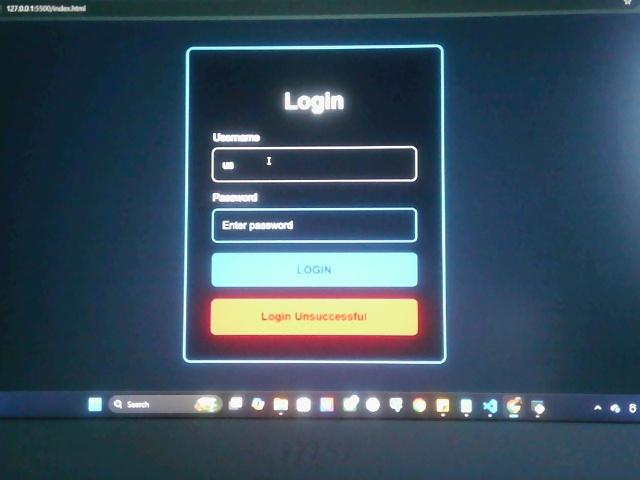login_button: (211, 252, 419, 289)
login_form: (185, 45, 444, 365)
password_input: (211, 206, 419, 245)
title_text: (282, 86, 347, 117)
unsuccess_alert: (209, 297, 419, 336)
username_input: (209, 145, 418, 183)
